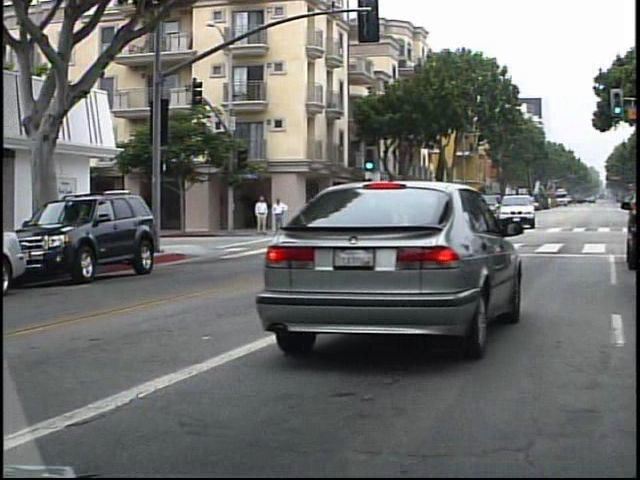person: (267, 194, 287, 235), (250, 191, 267, 236)
